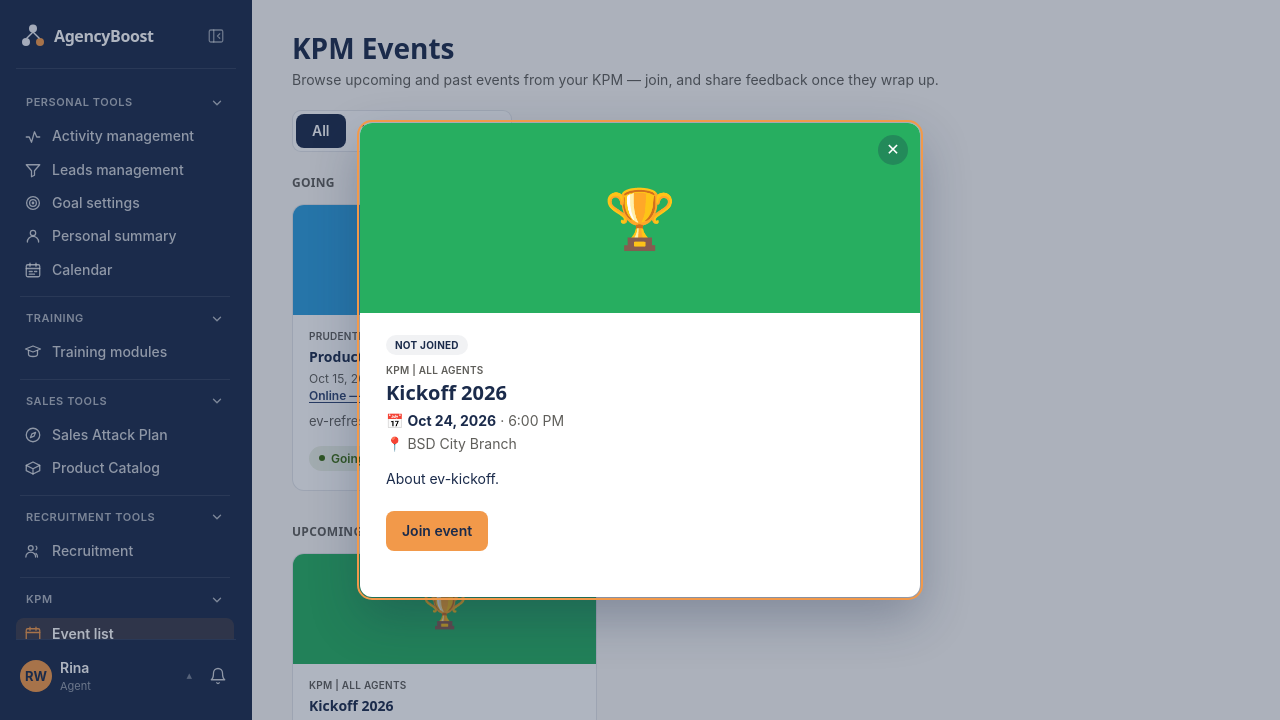
/events, KPM Events (P18.5-T5, T6) › the modal (T5 AC-5) › P18.5-T5 AC-5 a refusal from endsAt is said in the spec’s words beside the button, and the event read again
Click the button "Join event" at [437, 531], box [386,511,488,551]
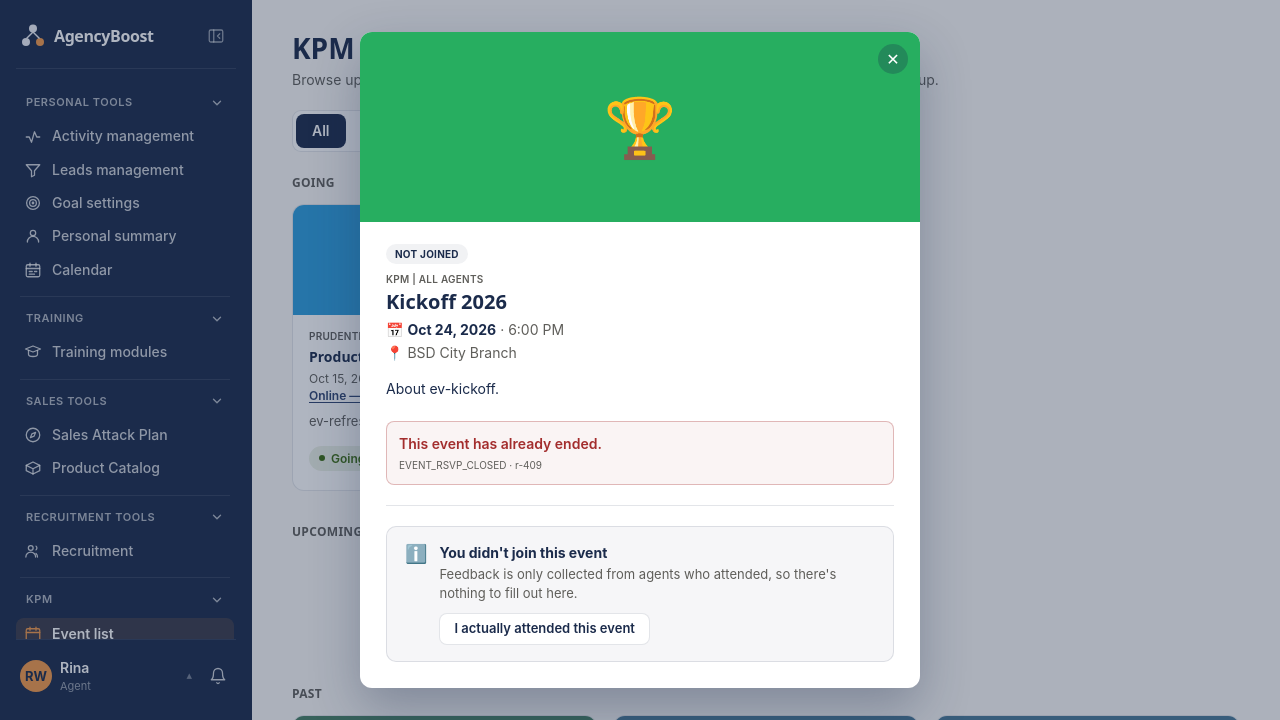
Result: the message shows "This event has already ended." at [399,434,602,452]
Result: the message shows "EVENT_RSVP_CLOSED" at [399,459,506,471]
Result: the text "You didn't join this event" is shown at [440,544,607,561]
